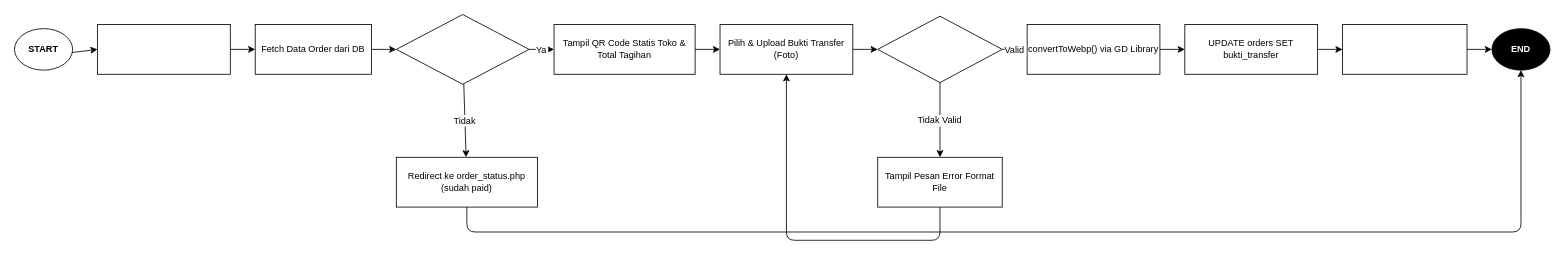
The diagram is 1565 pixels wide and 261 high, and some of its shapes have lost their labels. The box of each missing label's shape, as (x1, y1, x2, y2) in pixels:
Buka qris_payment.php?id={order_id}: (97, 24, 230, 74)
File Valid? (MIME + Ekstensi): (877, 15, 1002, 83)
Pesanan Valid, QRIS & Unpaid?: (395, 14, 529, 84)
Redirect ke order_status.php: (1342, 24, 1467, 74)
